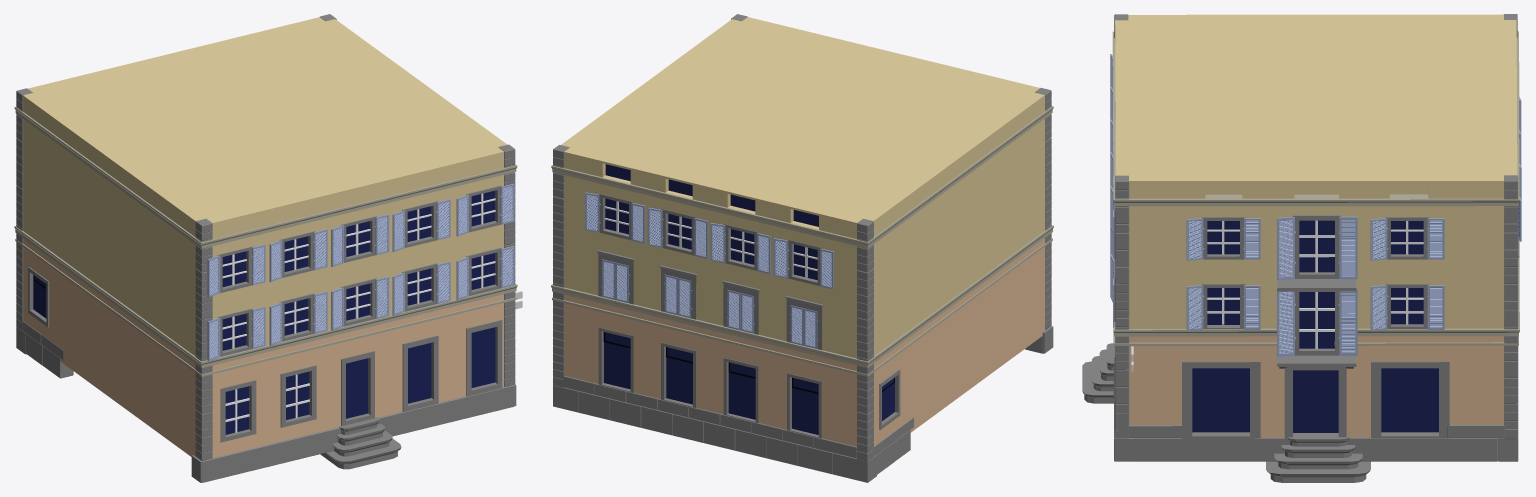
The model's file is Russissimo.fbx.
3 renders of one model, left to right at view 1: azimuth 30°, elevation 25°; view 2: azimuth 150°, elevation 25°; view 3: azimuth 270°, elevation 25°, orthographic. The views are drawn at different scales.
Parts seen in each view (by area): view 1: Cube.8623, Cube.8765, Cube.8665, Cube.8766, Cube.8620, Cube.8611, Cube.8609, Cube.8605, Cube.8608, Cube.8607, Cube.8610, Cube.8759 (+44 smaller); view 2: Cube.8623, Cube.8765, Cube.8665, Cube.8607, Cube.8611, Cube.8620, Cube.8606, Cube.8766, Cube.8610, Cube.8609, Cube.8617, Cube.8613 (+36 smaller); view 3: Cube.8623, Cube.8765, Cube.8665, Cube.8620, Cube.8604, Cube.8606, Cube.8695, Cube.8699, Cube.8608, Cube.8698, Cube.8611, Cube.8696 (+30 smaller).
Boxes of the visible parts, x1=… form: Cube.8623: x1=23, y1=17, x2=507, y2=356; Cube.8765: x1=23, y1=238, x2=504, y2=457; Cube.8665: x1=16, y1=321, x2=516, y2=482; Cube.8766: x1=23, y1=265, x2=340, y2=455; Cube.8620: x1=14, y1=106, x2=517, y2=248; Cube.8611: x1=14, y1=226, x2=517, y2=367; Cube.8609: x1=195, y1=218, x2=212, y2=460; Cube.8605: x1=320, y1=417, x2=401, y2=469; Cube.8608: x1=498, y1=144, x2=515, y2=386; Cube.8607: x1=16, y1=88, x2=32, y2=330; Cube.8610: x1=15, y1=239, x2=516, y2=376; Cube.8759: x1=471, y1=327, x2=495, y2=387; Cube.8623: x1=561, y1=17, x2=1045, y2=358; Cube.8765: x1=564, y1=238, x2=1044, y2=446; Cube.8665: x1=553, y1=326, x2=1053, y2=482; Cube.8607: x1=857, y1=218, x2=873, y2=461; Cube.8611: x1=551, y1=225, x2=1053, y2=367; Cube.8620: x1=551, y1=106, x2=1053, y2=248; Cube.8606: x1=553, y1=145, x2=569, y2=387; Cube.8766: x1=874, y1=265, x2=1044, y2=444; Cube.8610: x1=552, y1=238, x2=1052, y2=376; Cube.8609: x1=1034, y1=88, x2=1051, y2=330; Cube.8617: x1=728, y1=362, x2=755, y2=419; Cube.8613: x1=603, y1=332, x2=630, y2=389; Cube.8623: x1=1115, y1=14, x2=1517, y2=328; Cube.8765: x1=1129, y1=336, x2=1504, y2=437; Cube.8665: x1=1113, y1=333, x2=1518, y2=461; Cube.8620: x1=1112, y1=31, x2=1519, y2=206; Cube.8604: x1=1266, y1=433, x2=1370, y2=482; Cube.8606: x1=1504, y1=175, x2=1518, y2=440; Cube.8695: x1=1192, y1=368, x2=1249, y2=432; Cube.8699: x1=1381, y1=368, x2=1438, y2=432; Cube.8608: x1=1115, y1=175, x2=1129, y2=438; Cube.8698: x1=1293, y1=370, x2=1338, y2=432; Cube.8611: x1=1113, y1=240, x2=1519, y2=336; Cube.8696: x1=1182, y1=361, x2=1260, y2=438.
Bounding box in the file's own units: 1677 × 1260 × 1728.
